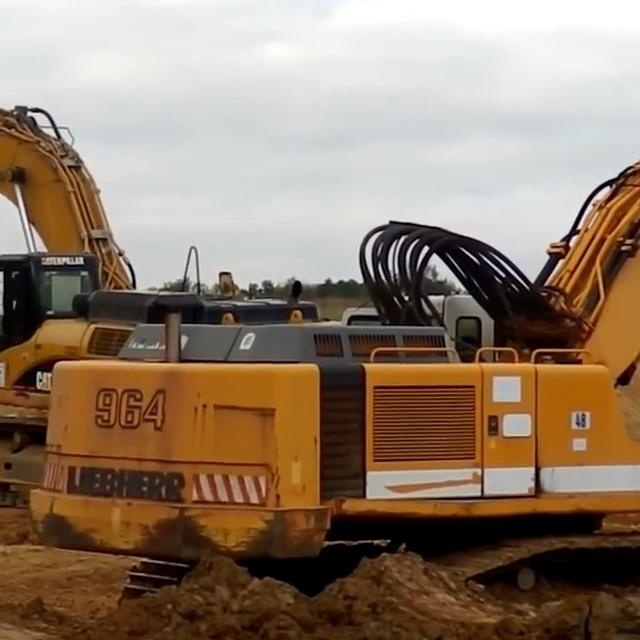Excavator: (30, 71, 640, 640), (0, 75, 318, 510)
Person: (0, 273, 36, 358)
